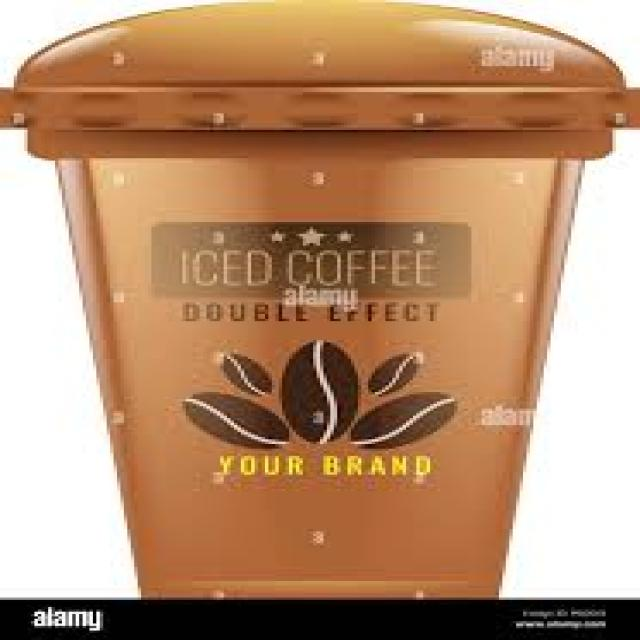bottle: (503, 129, 639, 596), (2, 129, 137, 597)
